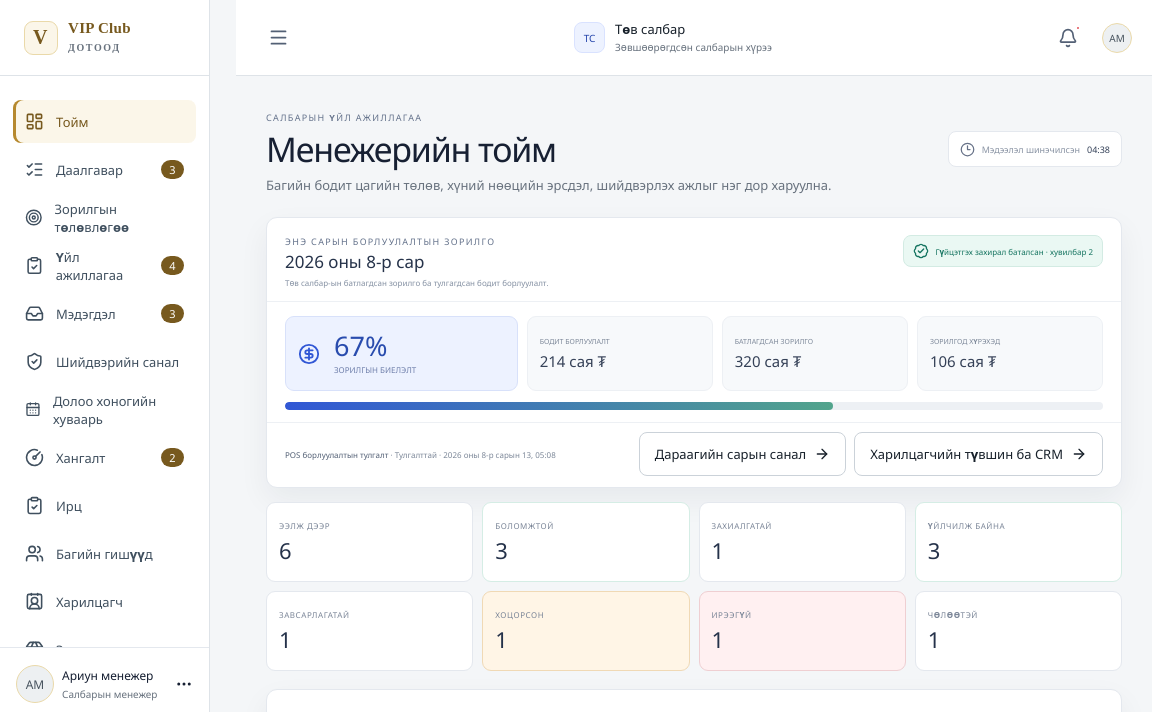
Test: WeeklySchedulePage › shows a masked branch-only customer intelligence view with working filters
Click the link "Харилцагч". click: (74, 602)
box: [25, 592, 123, 611]
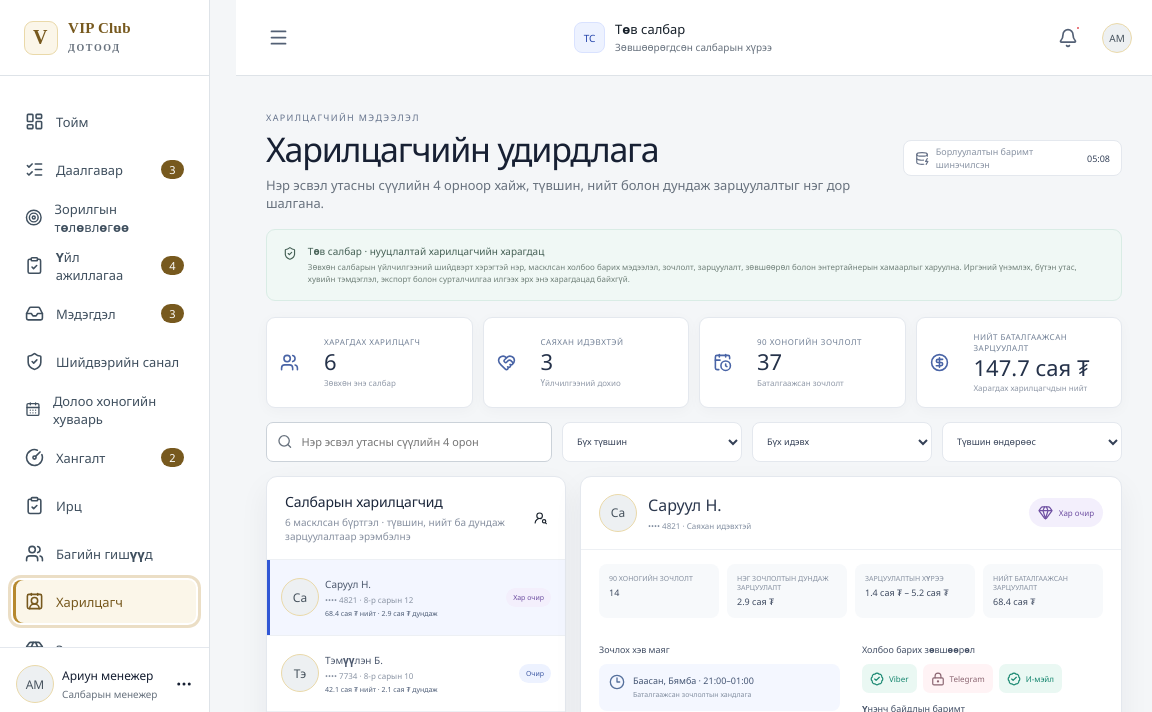
Check: the heading "Харилцагчийн удирдлага" is shown, box [266, 126, 658, 172]
Check: the text "Төв салбар · нууцлалтай харилцагчийн харагдац" is shown, box [308, 244, 544, 258]
Check: the text "•••• 4821 · 8-р сарын 12" is shown, box [325, 594, 413, 604]
Type "4821" into the field named "Нэр эсвэл утасны сүүлийн 4 орноор харилцагч хайх". click: (420, 442)
box: [300, 433, 541, 450]
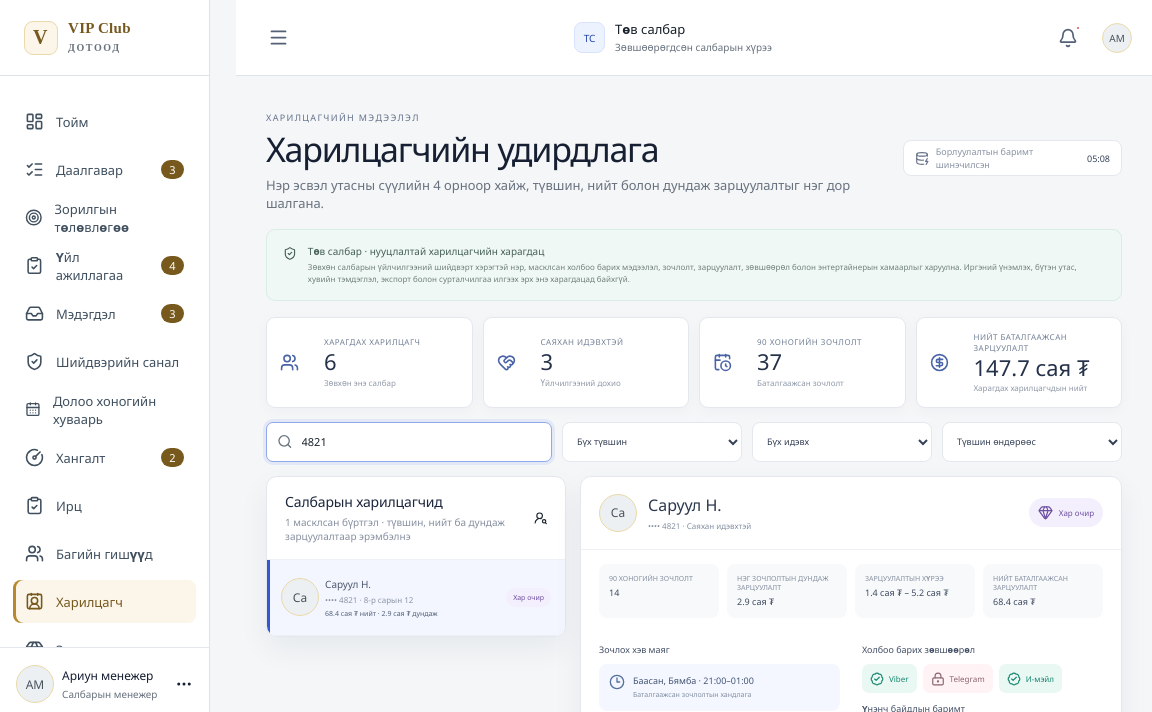
Check: the button "Саруул Н." shows "68.4 сая ₮ нийт", box [267, 560, 565, 636]
Check: the button "Саруул Н." shows "2.9 сая ₮ дундаж", box [267, 560, 565, 636]
Check: the button "Тэмүүлэн Б." is gone
Clear the field named "Нэр эсвэл утасны сүүлийн 4 орноор харилцагч хайх". click: (420, 442)
box: [300, 433, 541, 450]
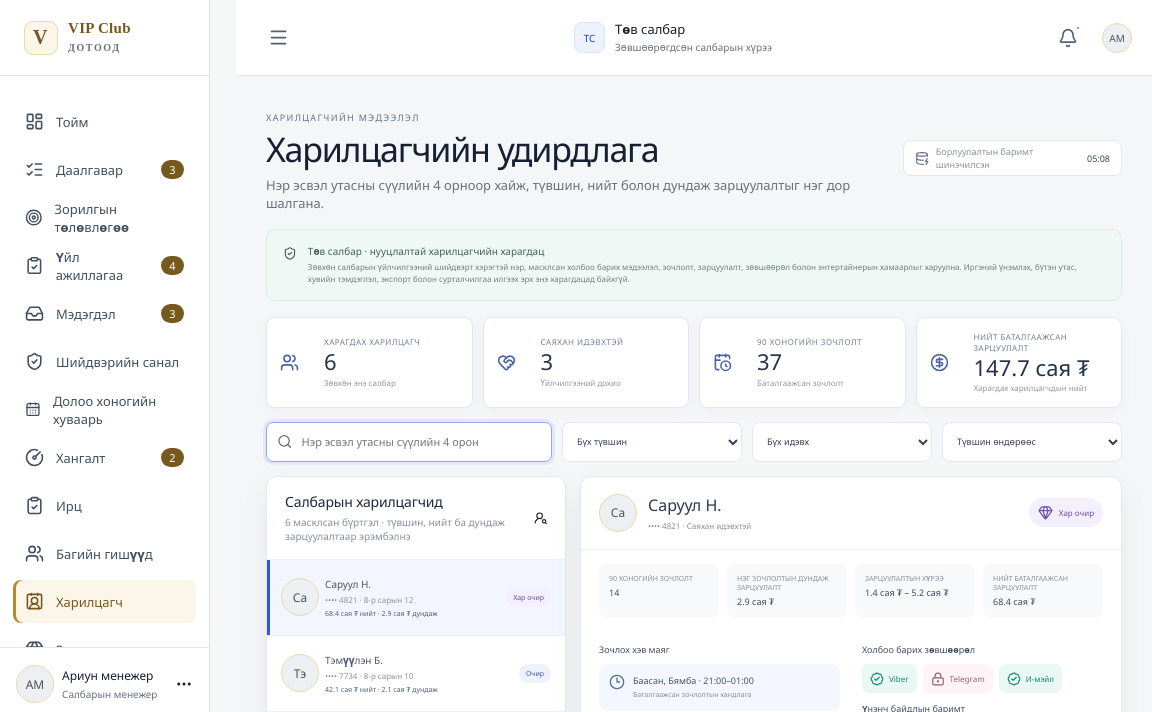
Select "Нийт зарцуулалт өндөрөөс" in the dropdown named "Харилцагчийг эрэмбэлэх". click: (1032, 442)
box: [942, 422, 1122, 462]
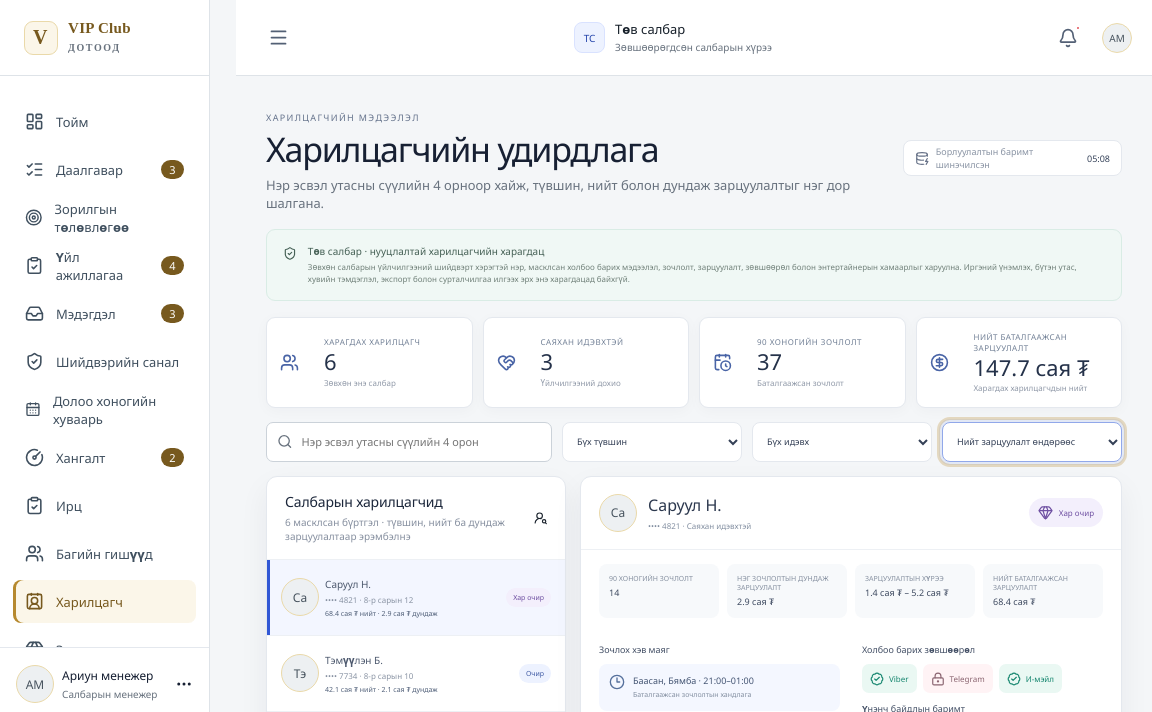
Select "Очир" in the dropdown named "Гишүүнчлэлийн түвшнээр шүүх". click: (652, 442)
box: [562, 422, 742, 462]
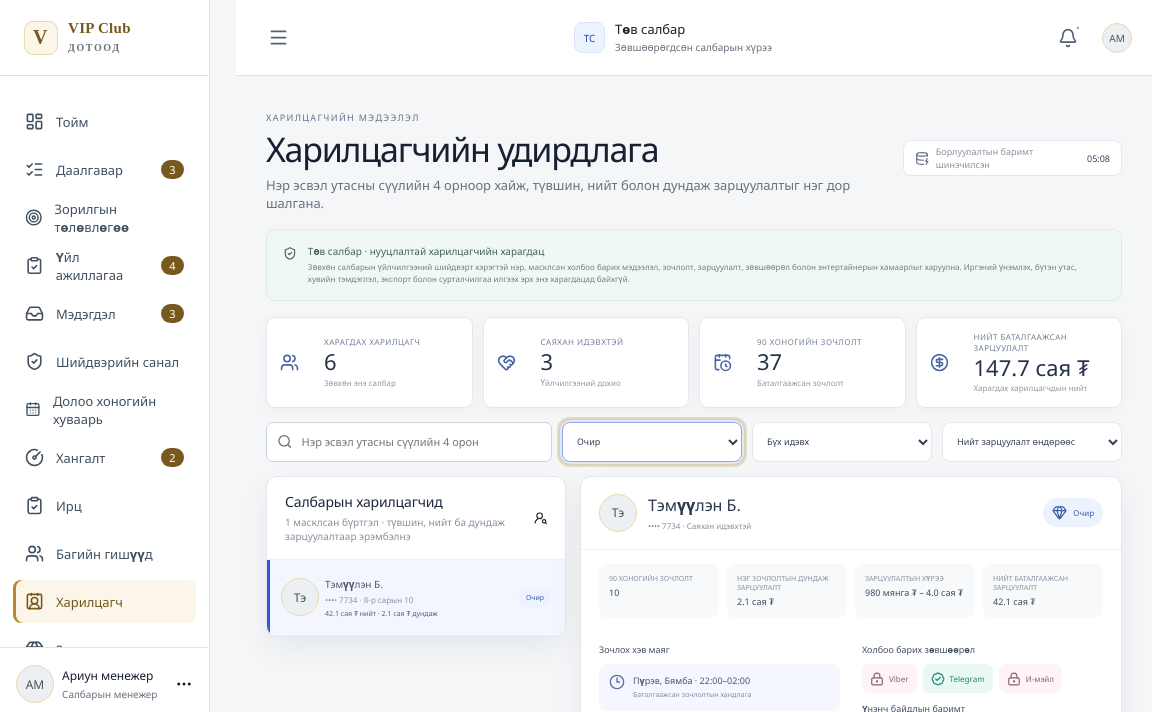
Check: the button "Тэмүүлэн Б." is shown, box [267, 560, 565, 636]
Check: the button "Саруул Н." is gone
